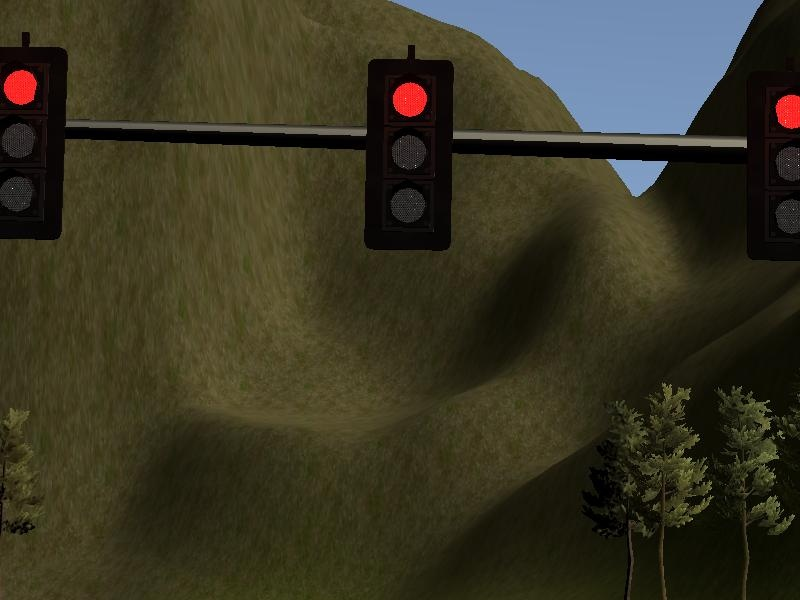red: (362, 48, 460, 255), (1, 43, 70, 237), (739, 73, 800, 261)
